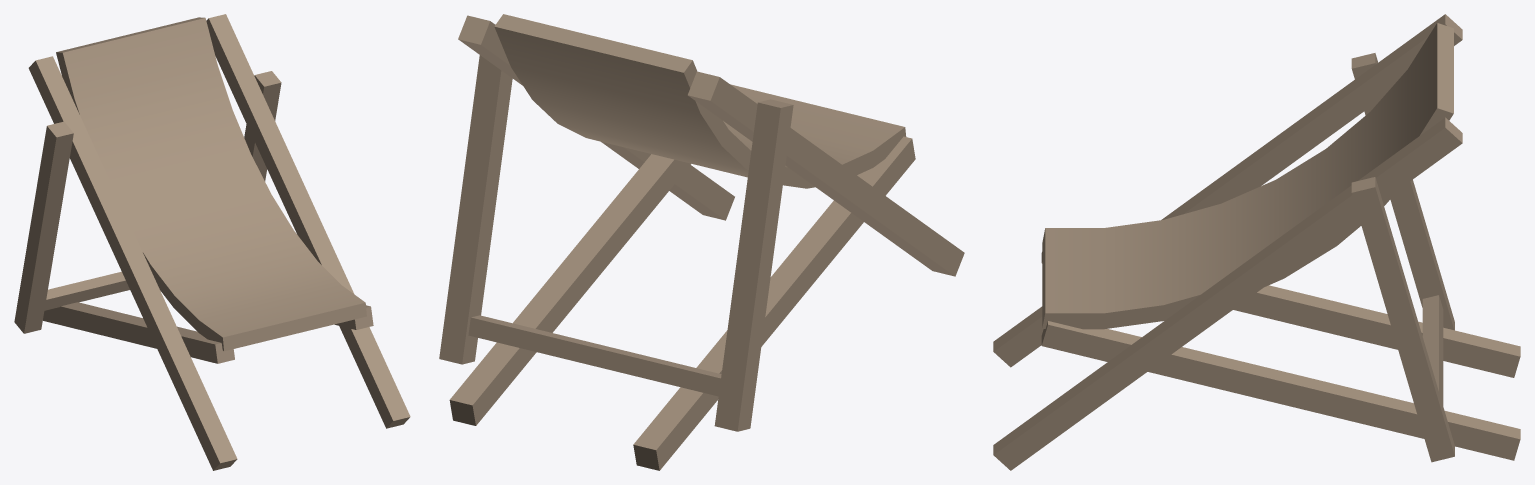
The model's file is Beach2.glb.
3 renders of one model, left to right at view 1: azimuth 30°, elevation 25°; view 2: azimuth 150°, elevation 25°; view 3: azimuth 270°, elevation 25°, orthographic. The views are drawn at different scales.
Visible parts, largest first — view 1: Beach_Chair; view 2: Beach_Chair; view 3: Beach_Chair.
Part boxes in pixels (bbox=[...]): Beach_Chair: bbox=[14, 14, 410, 470]; Beach_Chair: bbox=[439, 14, 964, 470]; Beach_Chair: bbox=[993, 14, 1520, 470].
Bounding box in the file's own units: 130 × 157 × 215.
